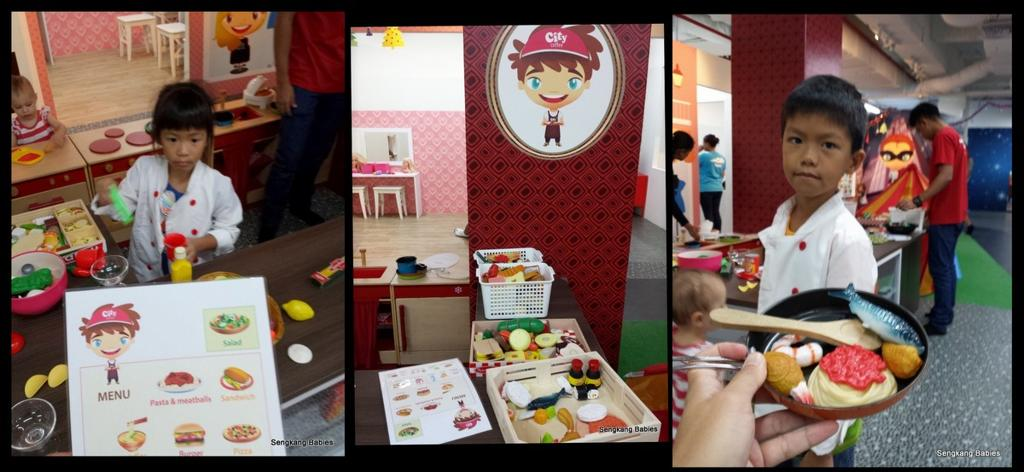face: (781, 117, 845, 194), (160, 118, 206, 171), (704, 281, 729, 328), (11, 90, 36, 119)
